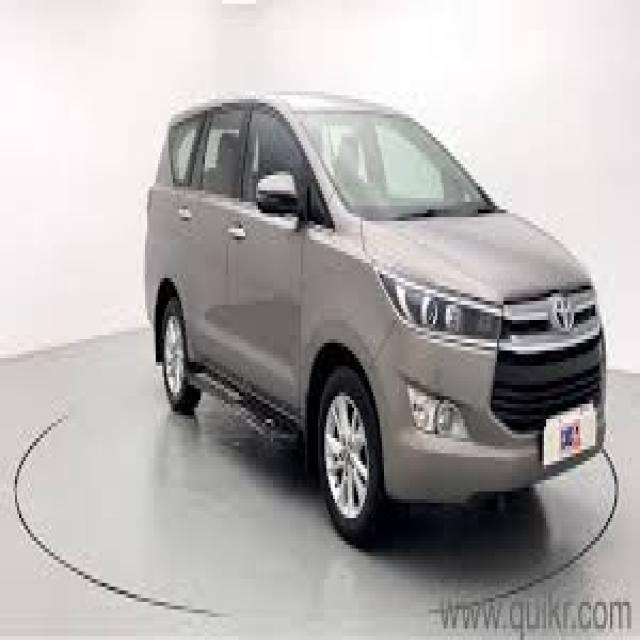cars: (116, 83, 616, 566)
